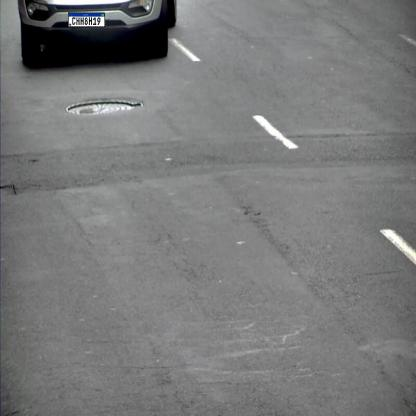PlacaM: (68, 13, 105, 27)
